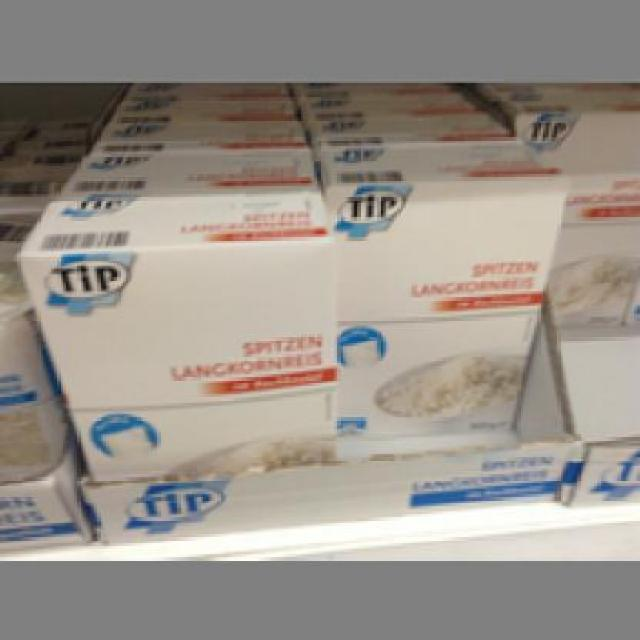Rice: (11, 194, 338, 477), (310, 142, 566, 432), (502, 94, 638, 337)
